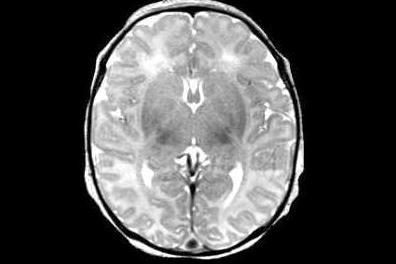Normal_Brain: (58, 1, 322, 262)
